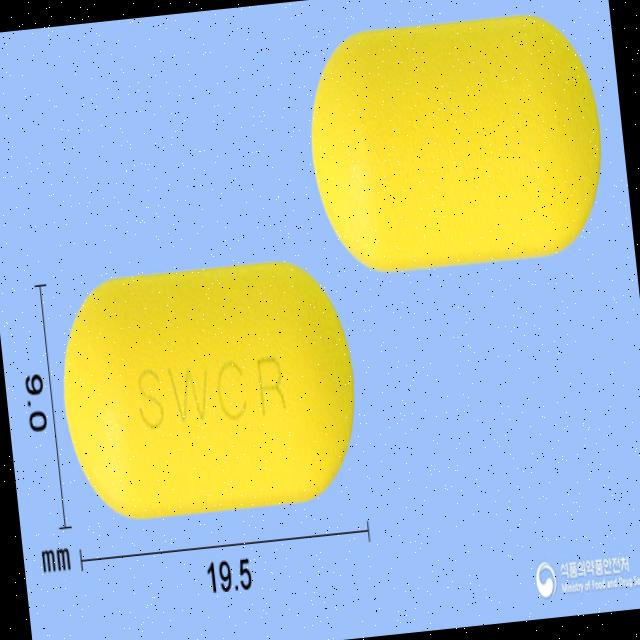Clath: (298, 4, 616, 286), (50, 249, 368, 528)
